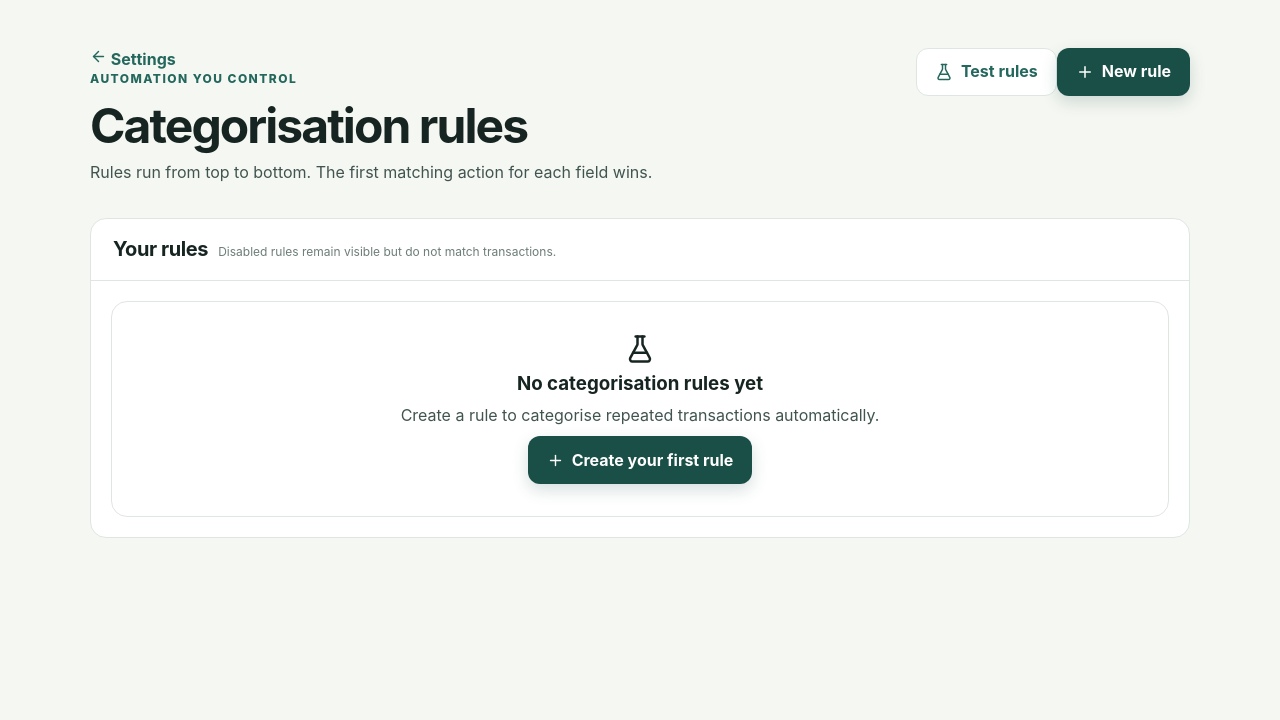
it: RulesPage › shows an empty state and a no-change dry run without mutating data
The image size is (1280, 720).
Expected: the heading "No categorisation rules yet" is shown, [517,372,763,395]
Click the button "Test rules" at (986,72), box [916,48,1057,96]
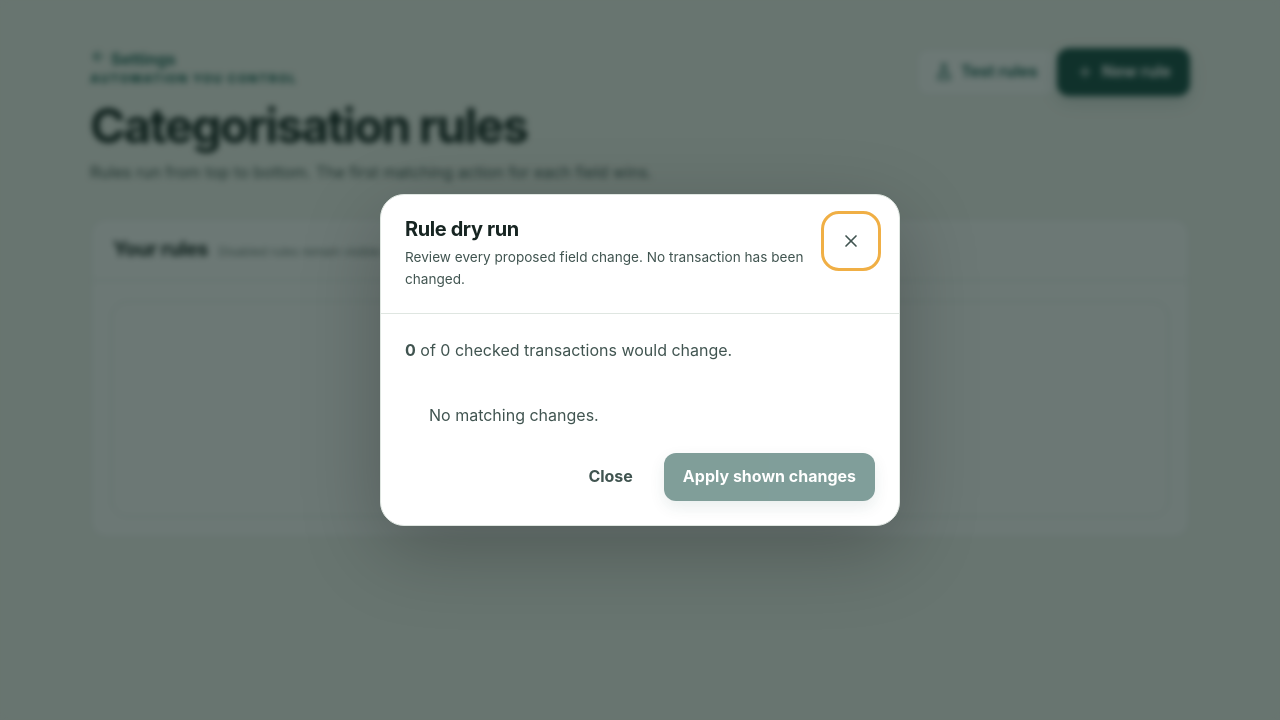
Now the dialog "Rule dry run" is shown, box [380,194,900,526]
Now the text "No matching changes." is shown, box [429,405,599,425]
